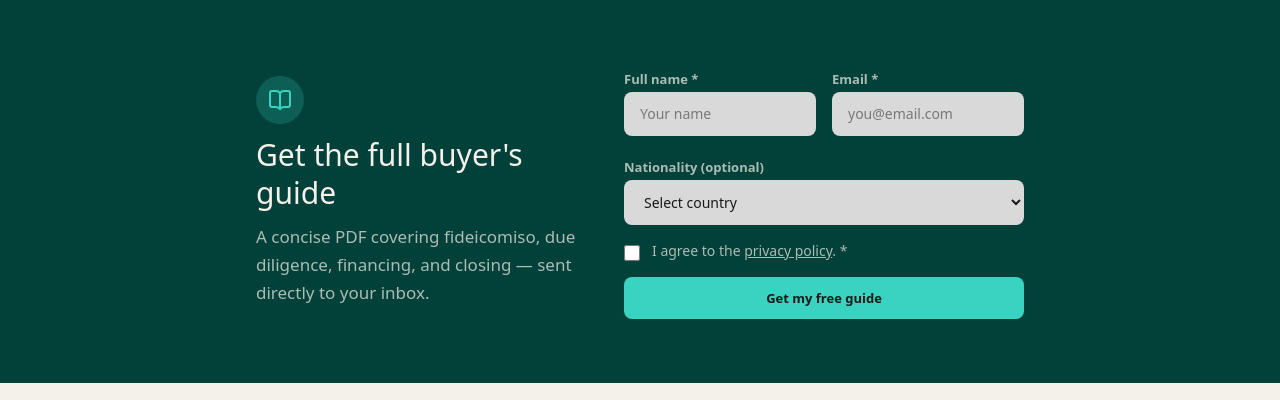
Test: GuideDownloadForm › shows success confirmation with the submitted email
Type "carlos@example.com" into the field with placeholder "you@email.com" at point(928, 114), box [832,92,1024,136]
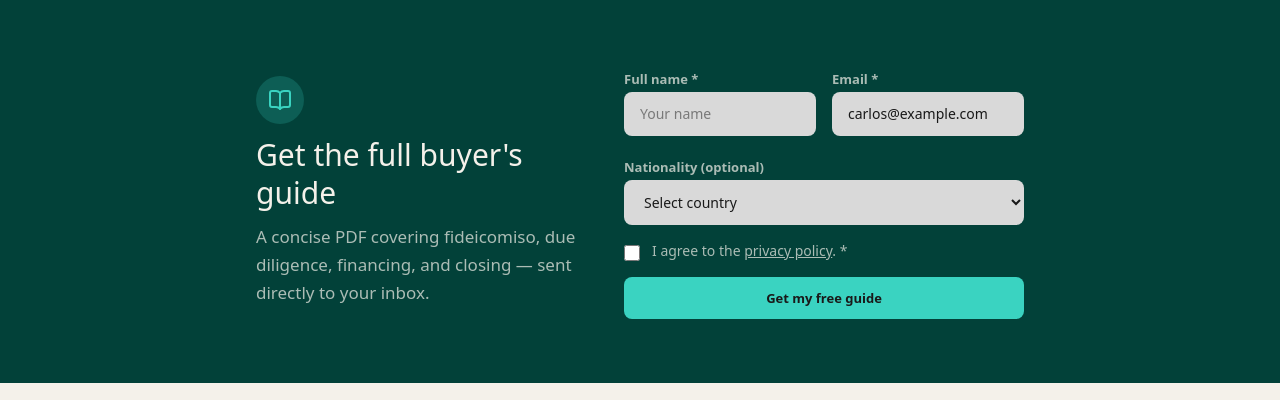
Submit the form with placeholder "Your name", box [624,64,1024,319]
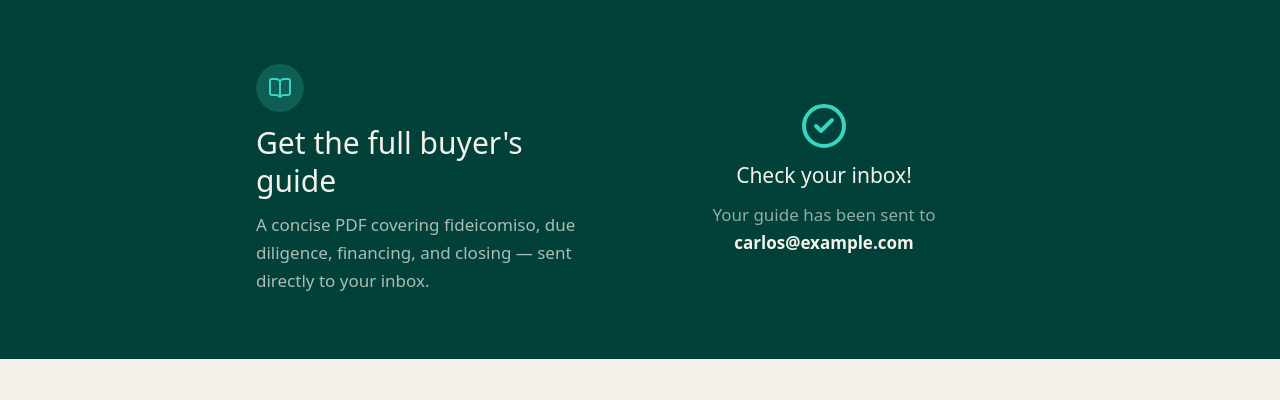
Expected: the text "Check your inbox!" is shown, [736,162,912,189]
Expected: the text "carlos@example.com" is shown, [734,231,914,254]
